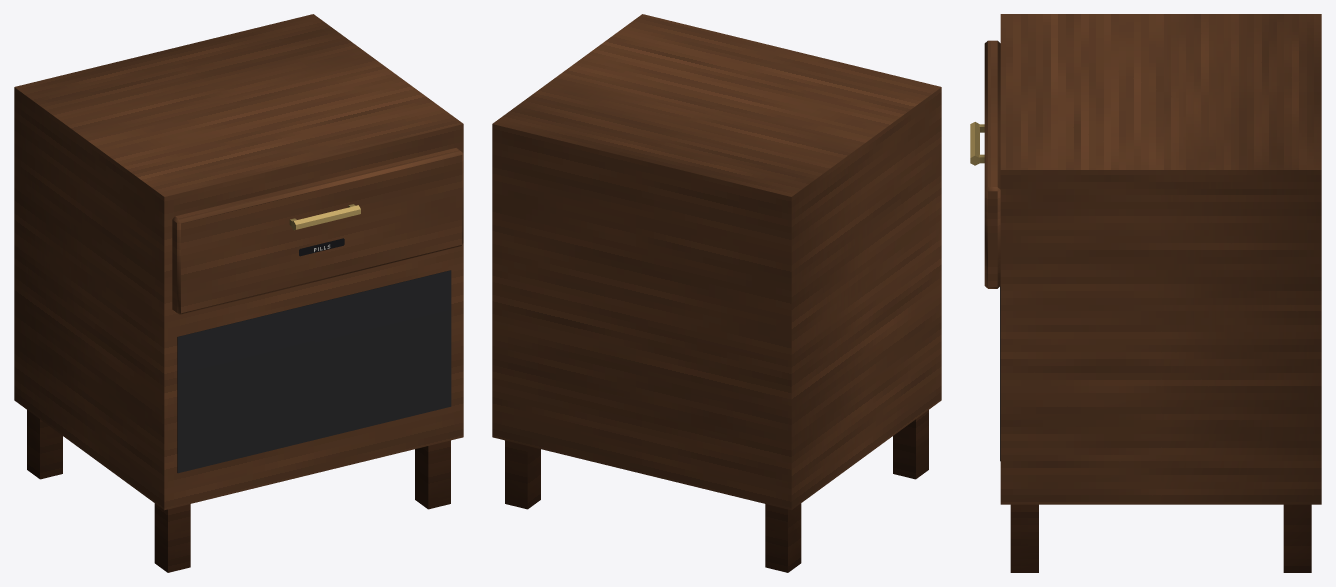
File: nightstand.glb
The picture shows the model from 3 angles, left to right: view 1: azimuth 30°, elevation 25°; view 2: azimuth 150°, elevation 25°; view 3: azimuth 270°, elevation 25°; orthographic projection. The views are drawn at different scales.
Visible parts, largest first — view 1: body; view 2: body; view 3: body.
Part boxes in pixels (<box>): body: <box>14,14,463,572</box>; body: <box>492,14,941,572</box>; body: <box>970,14,1321,572</box>.
Size of what is drawn, in the model's own units: 0.46 by 0.56 by 0.4381.
Materials: 5 (3 with a texture image).
